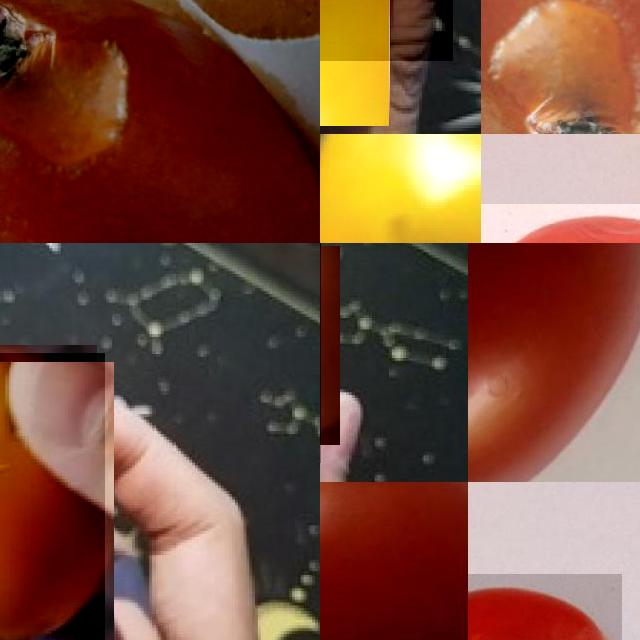1: (0, 0, 320, 243)
Fresh Tomato: (468, 243, 640, 482)
Rotten Tomato: (0, 353, 105, 640), (481, 0, 640, 134), (320, 134, 481, 243), (468, 573, 622, 640)
